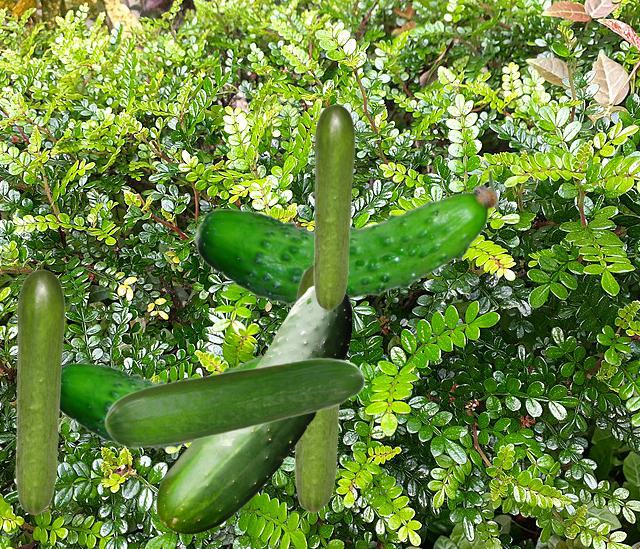cucumber: (156, 285, 351, 533), (192, 169, 497, 307), (104, 357, 364, 448), (60, 354, 262, 450), (15, 269, 64, 514), (294, 264, 339, 512), (313, 104, 354, 310)
